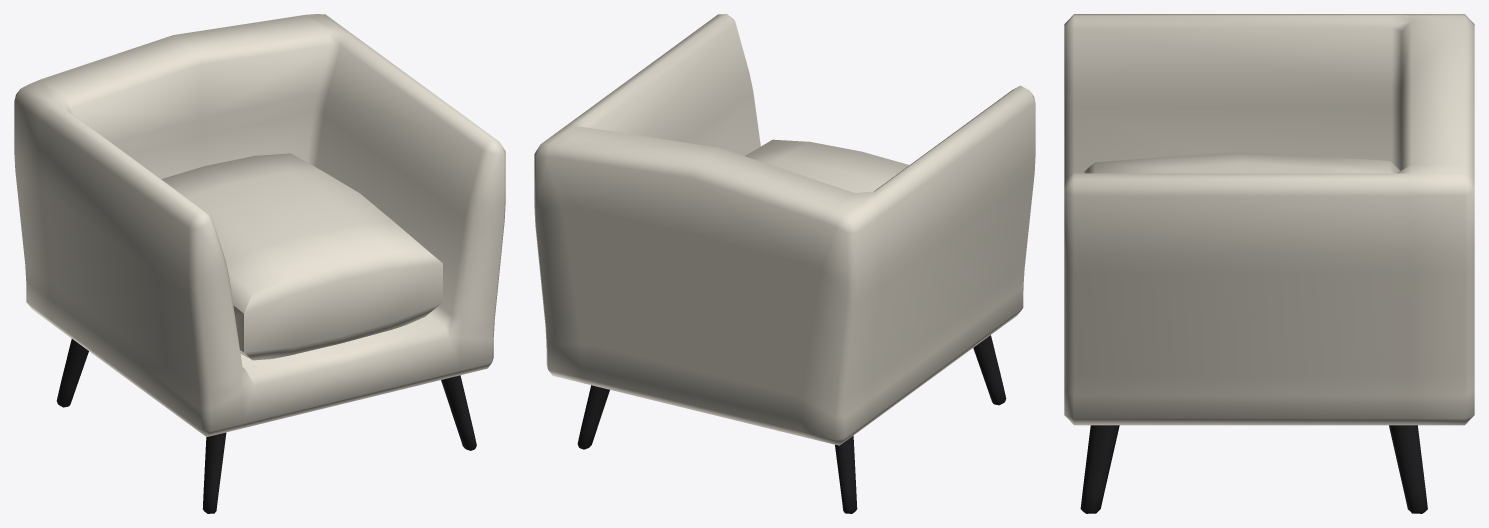
File: pk_accent_cream.glb
3 views of the same model, side by side, from view 1: azimuth 30°, elevation 25°; view 2: azimuth 150°, elevation 25°; view 3: azimuth 270°, elevation 25° (orthographic). The views are drawn at different scales.
Parts seen in each view (by area): view 1: pk_accent_cream; view 2: pk_accent_cream; view 3: pk_accent_cream.
Part boxes in pixels (x1,y1,x2,y2): pk_accent_cream: (14, 14, 505, 513); pk_accent_cream: (534, 14, 1035, 513); pk_accent_cream: (1064, 14, 1474, 513).
Size of the model in its own units: 0.82 by 0.8 by 0.82.
Materials: 1 (1 with a texture image).
